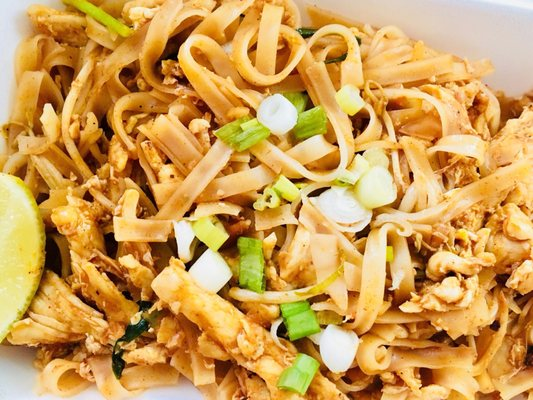pasta: (0, 169, 47, 345)
